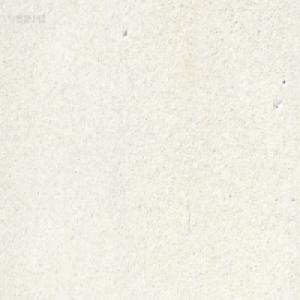Wrench: (177, 0, 184, 5)
